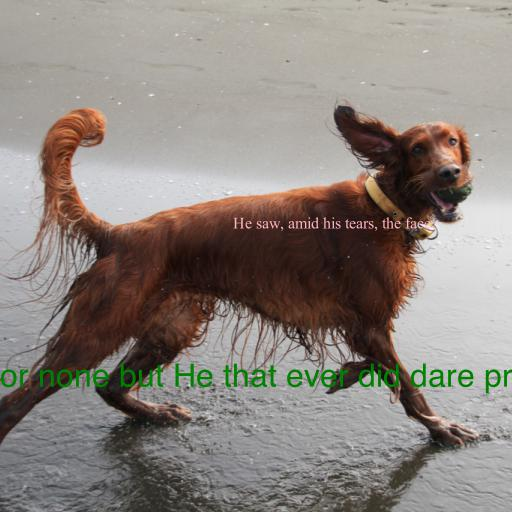Helvetica: (0, 363, 512, 394)
Times New Roman: (233, 217, 431, 232)
